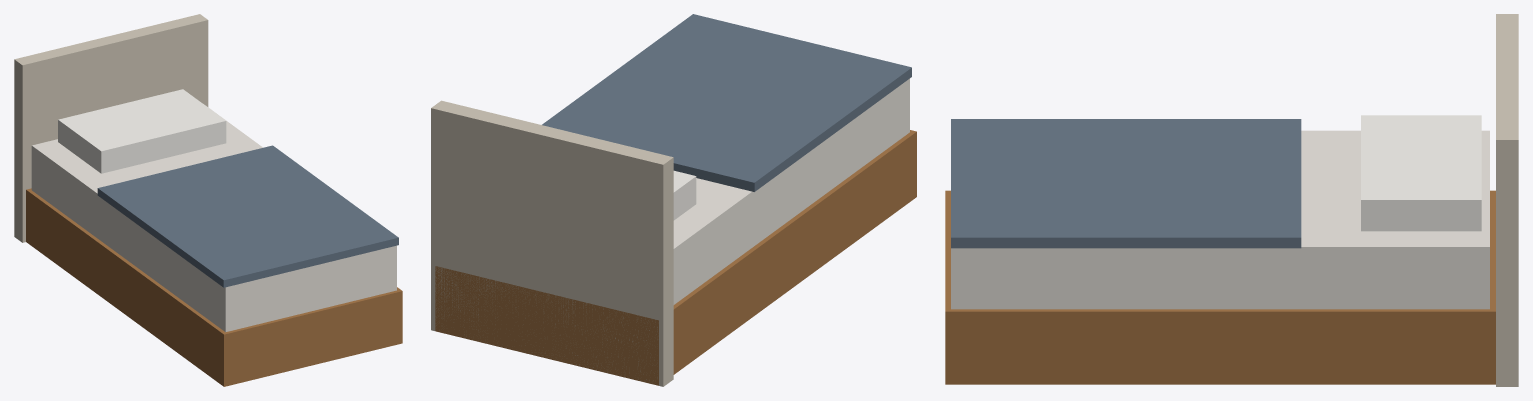
File: bed_single.glb
The picture shows the model from 3 angles, left to right: view 1: azimuth 30°, elevation 25°; view 2: azimuth 150°, elevation 25°; view 3: azimuth 270°, elevation 25°; orthographic projection. The views are drawn at different scales.
Size of the model in its own units: 1.04 by 0.95 by 2.
